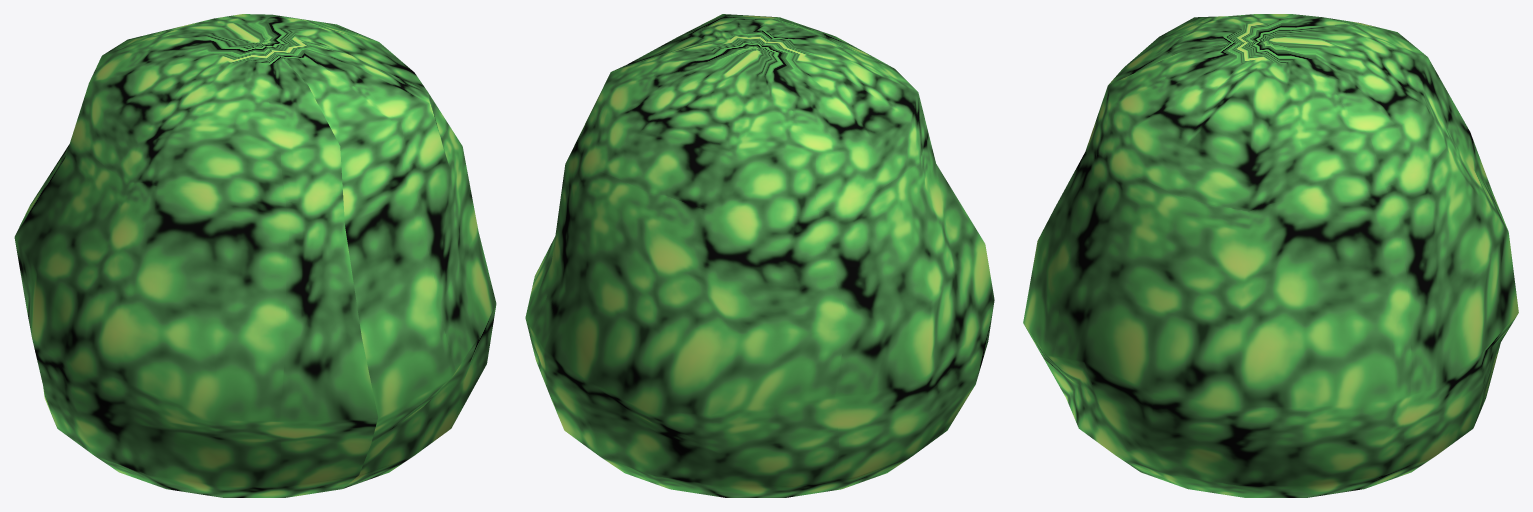
The model's file is GAMEJAMPUFFER - Bush 4.fbx.
The picture shows the model from 3 angles, left to right: view 1: azimuth 30°, elevation 25°; view 2: azimuth 150°, elevation 25°; view 3: azimuth 270°, elevation 25°; orthographic projection. The views are drawn at different scales.
Parts seen in each view (by area): view 1: Beach Ball.004; view 2: Beach Ball.004; view 3: Beach Ball.004.
Part boxes in pixels (box(x1,y1,x2,y2)): Beach Ball.004: box(14, 14, 496, 497); Beach Ball.004: box(525, 14, 994, 497); Beach Ball.004: box(1023, 14, 1518, 497).
Size of the model in its own units: 230 by 206 by 241.
Materials: 1 (1 with a texture image).
